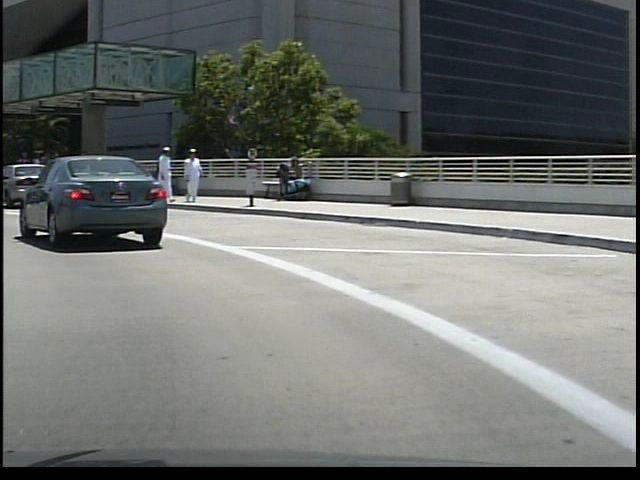person: (65, 147, 93, 214), (145, 142, 175, 202), (177, 145, 200, 206)
